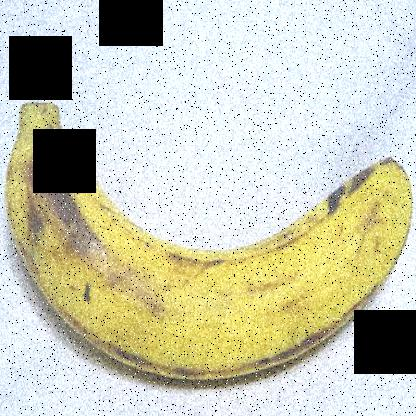overripe: (1, 91, 415, 399)
